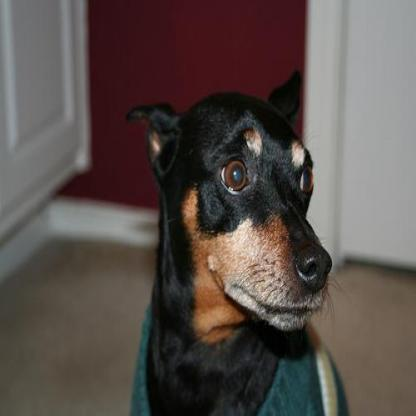miniature_pinscher: (123, 66, 350, 414)
